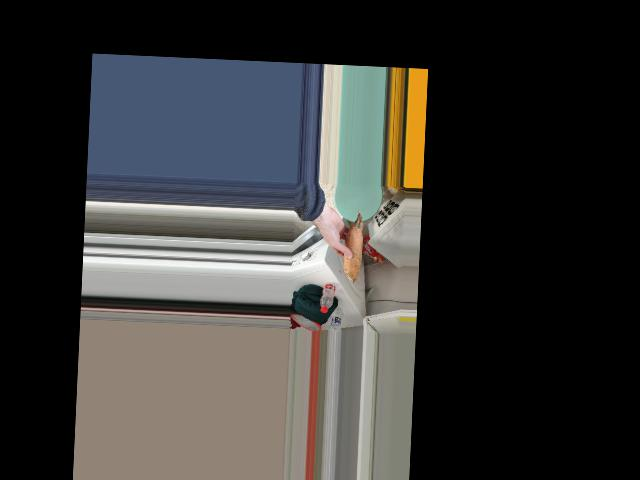sweet_potato: (338, 210, 365, 277)
